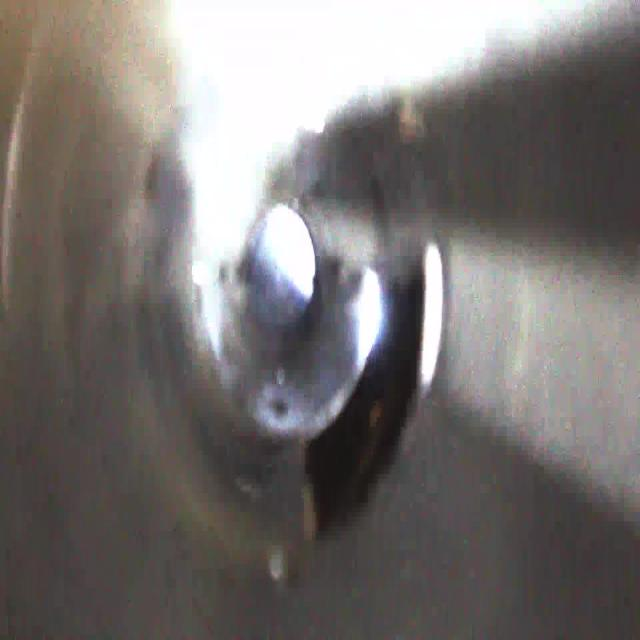hole: (294, 230, 452, 555)
